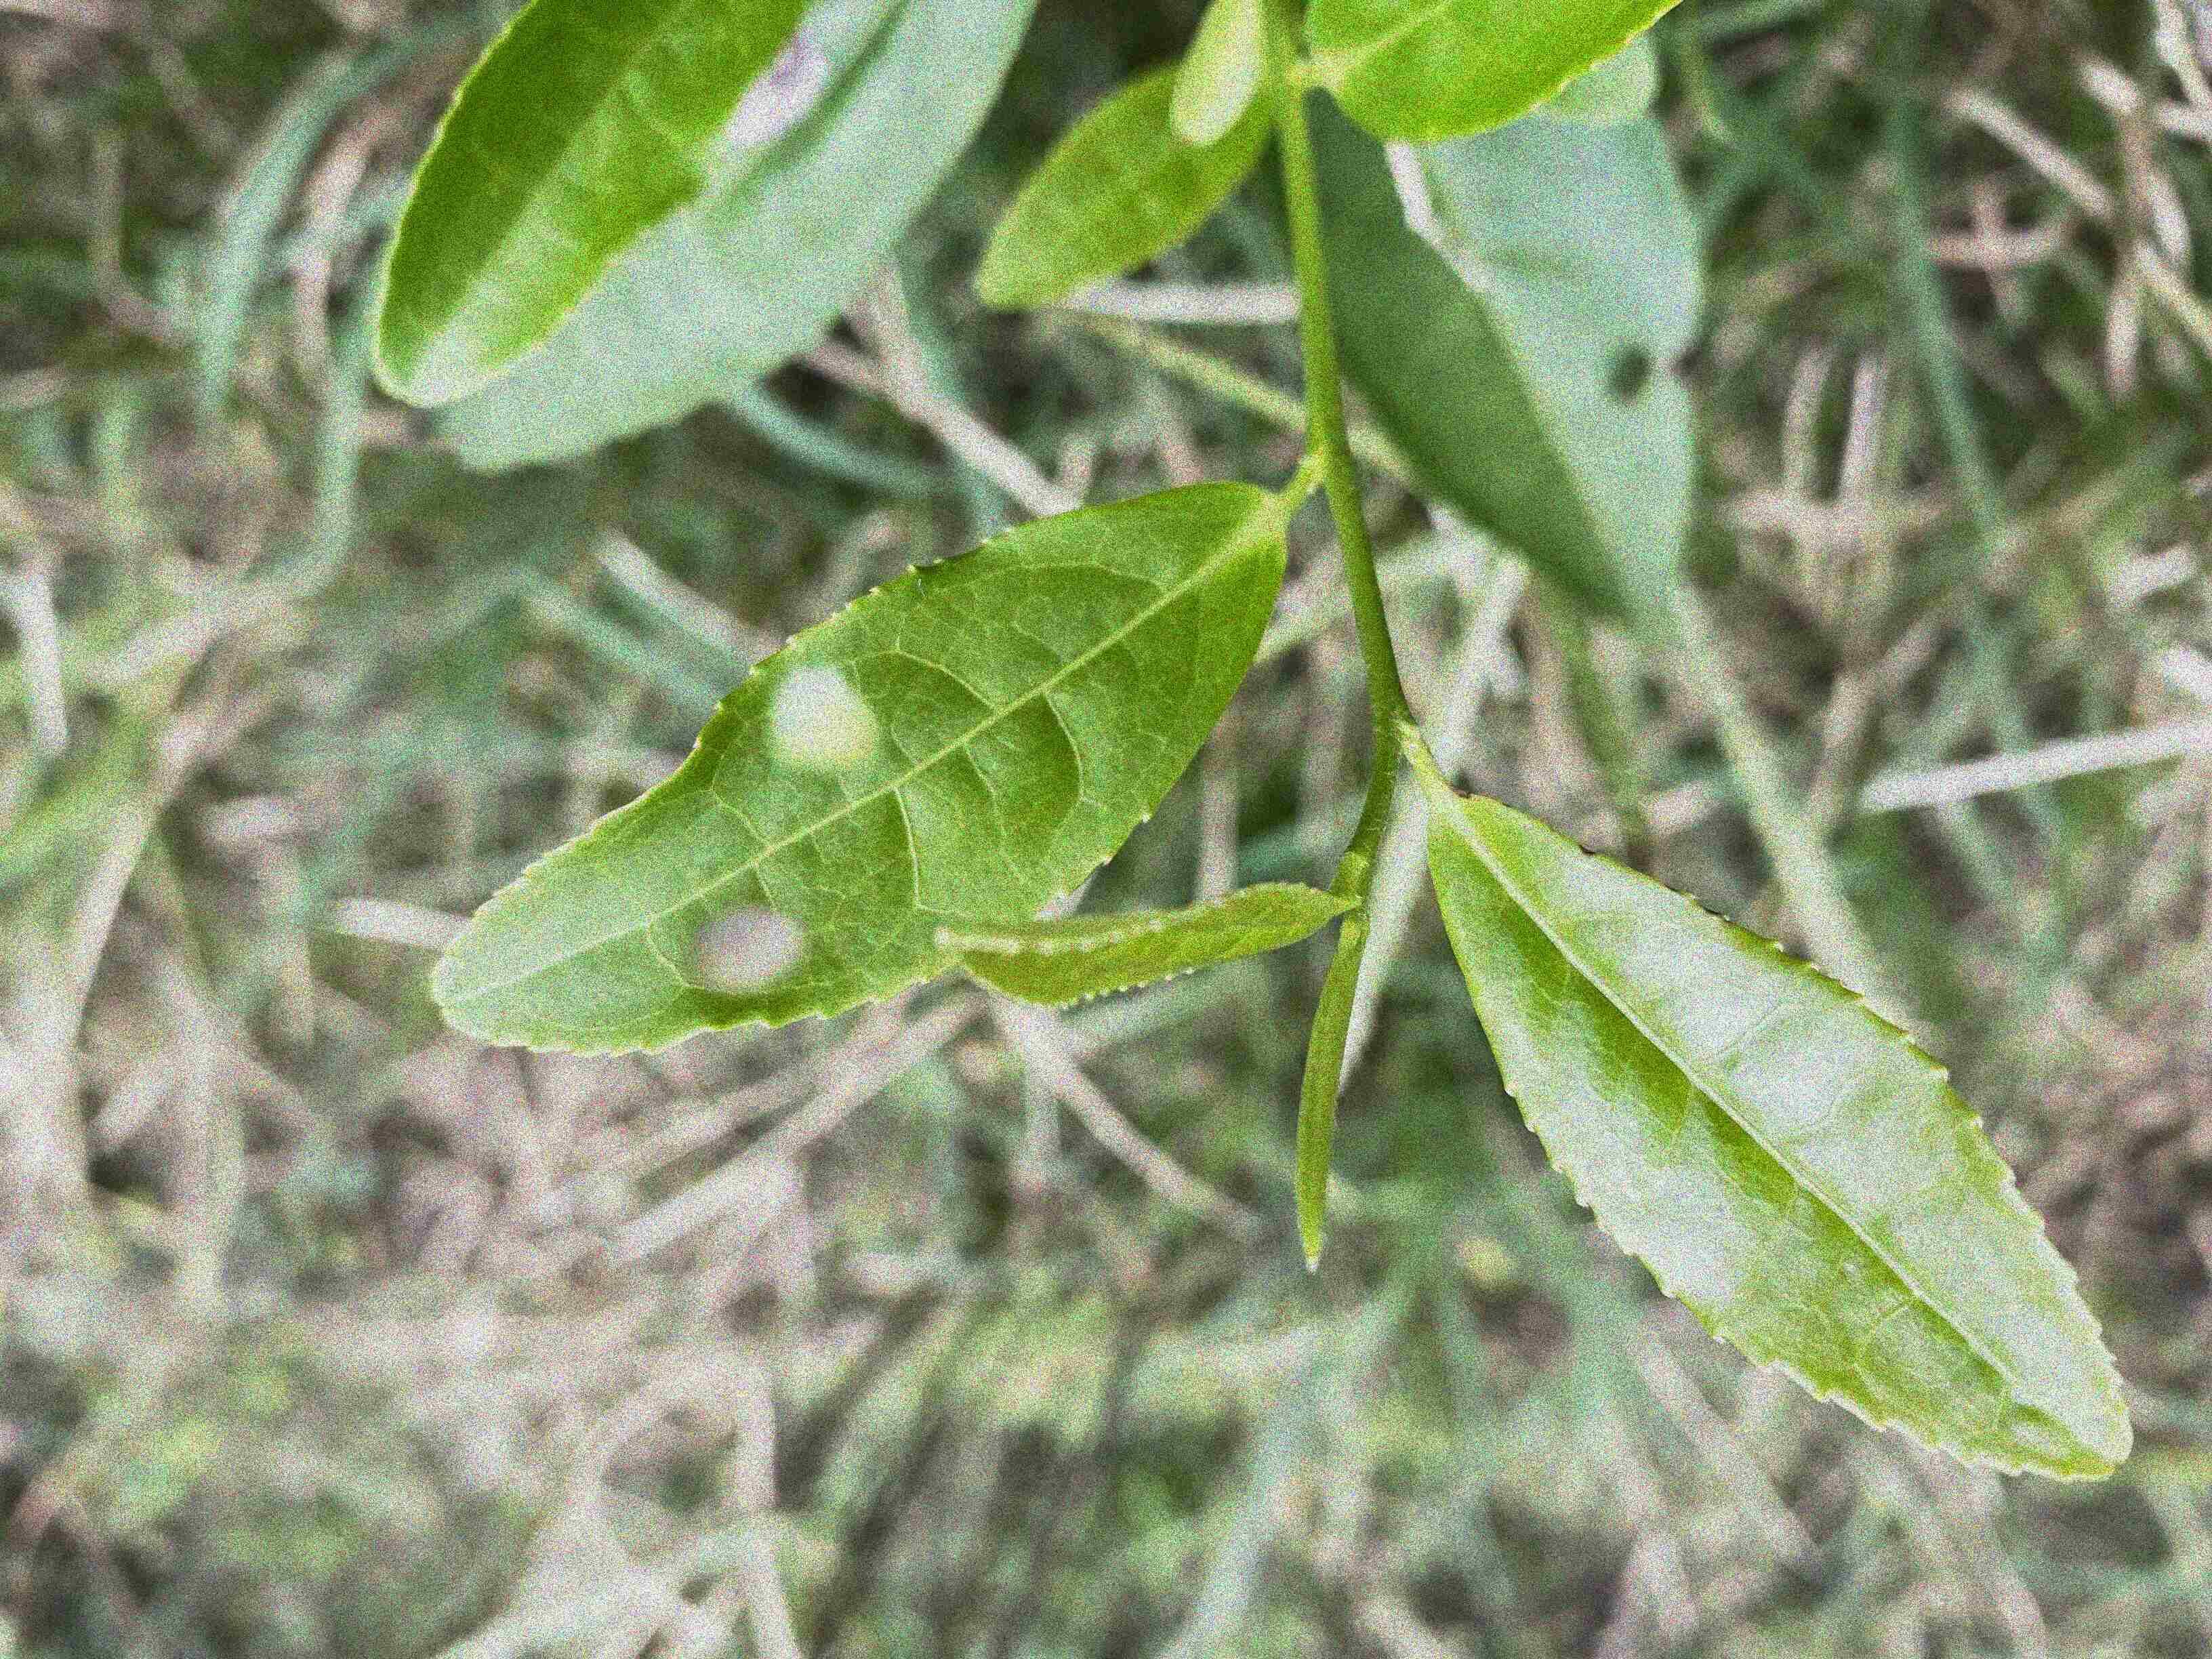chabing_high: (430, 484, 1292, 1061)
healthy: (1421, 784, 2137, 1485)
